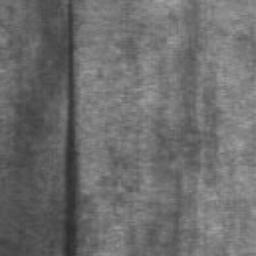Scratches: (63, 0, 80, 256)
